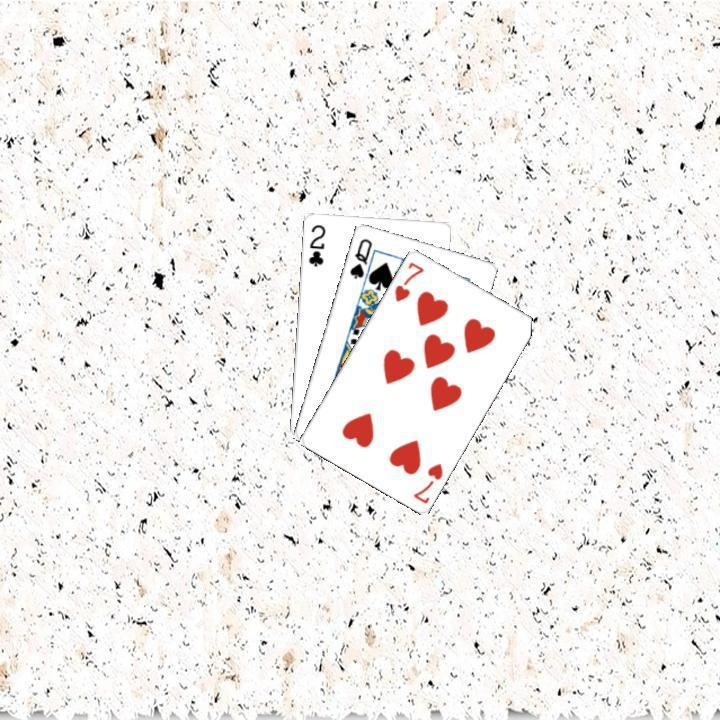2: (304, 220, 327, 268)
7: (409, 458, 445, 506), (390, 257, 426, 304)
Q: (345, 234, 374, 281)
